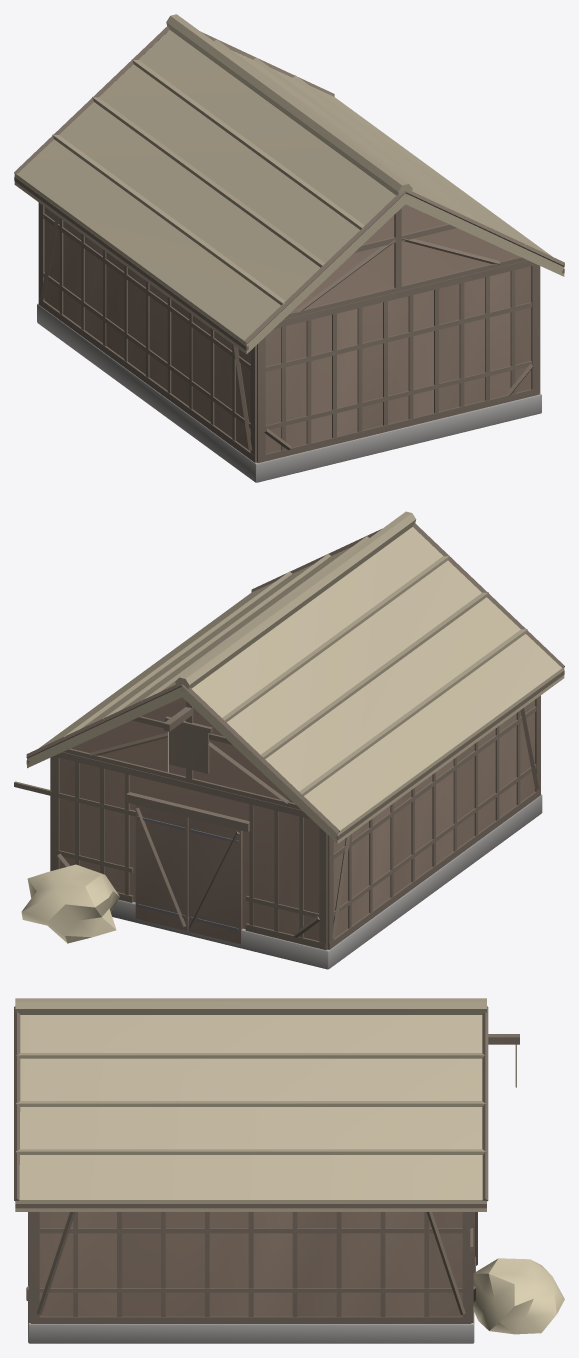
Rendered from barn.gltf.
3 renders of one model, top to bottom at view 1: azimuth 30°, elevation 25°; view 2: azimuth 150°, elevation 25°; view 3: azimuth 270°, elevation 25°, orthographic. The views are drawn at different scales.
Visible parts, largest first — view 1: Body; view 2: Body; view 3: Body.
Boxes of the visible parts, box(x1,y1,x2,y2) form: Body: box(14, 14, 564, 482); Body: box(14, 511, 564, 969); Body: box(14, 998, 564, 1343).
Bounding box in the file's own units: 10.9 × 8.48 × 15.06.
